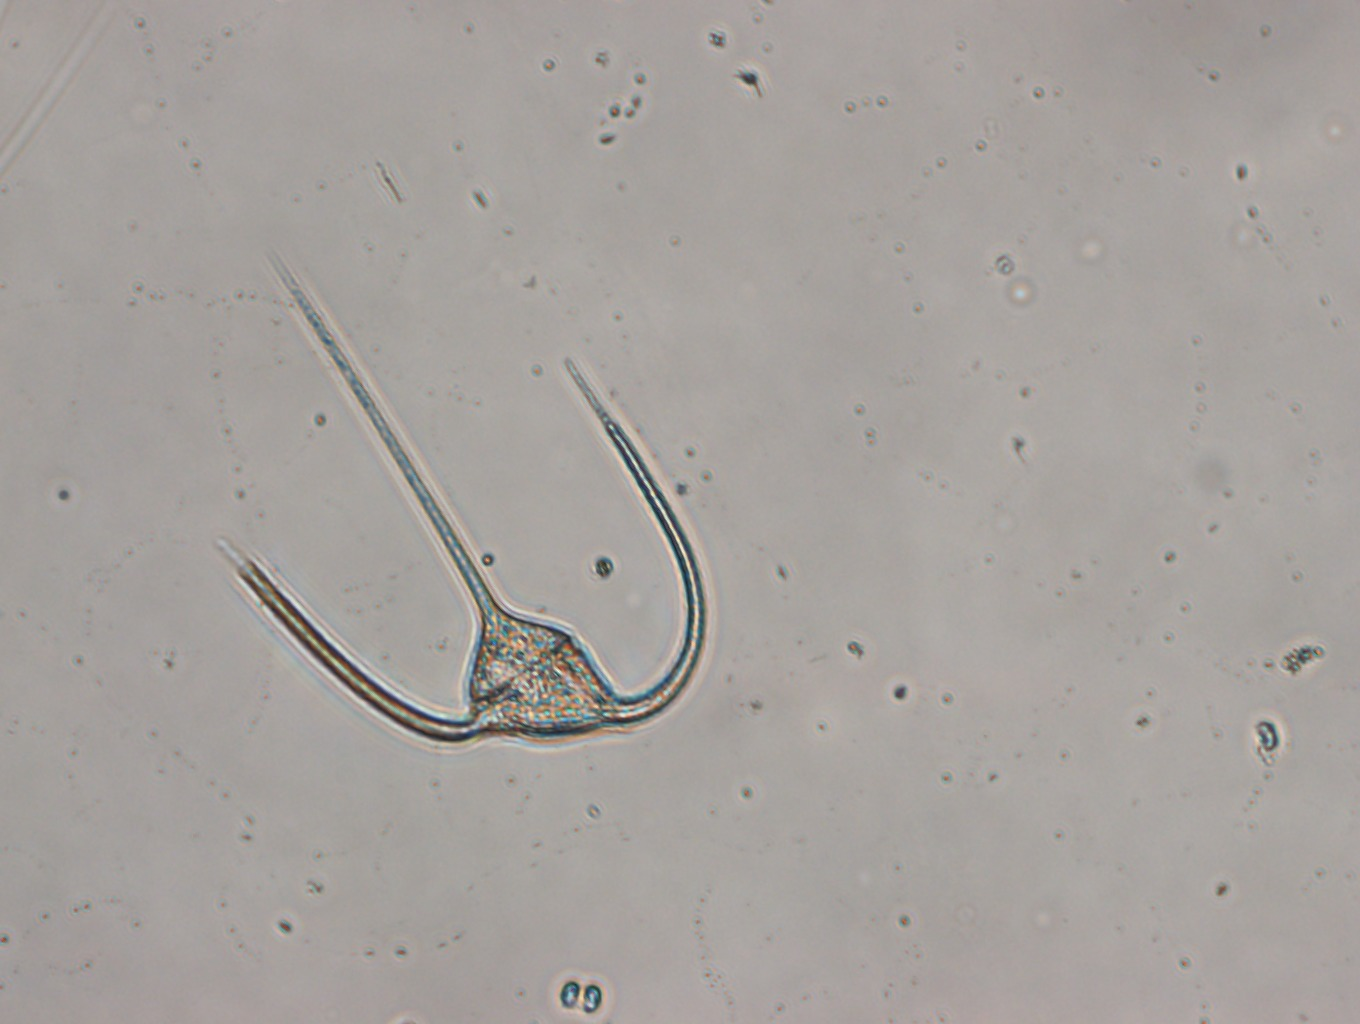ceratium trichoceros: (213, 245, 713, 749)
